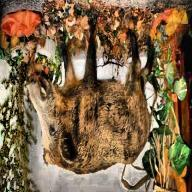boar: (19, 21, 156, 184)
